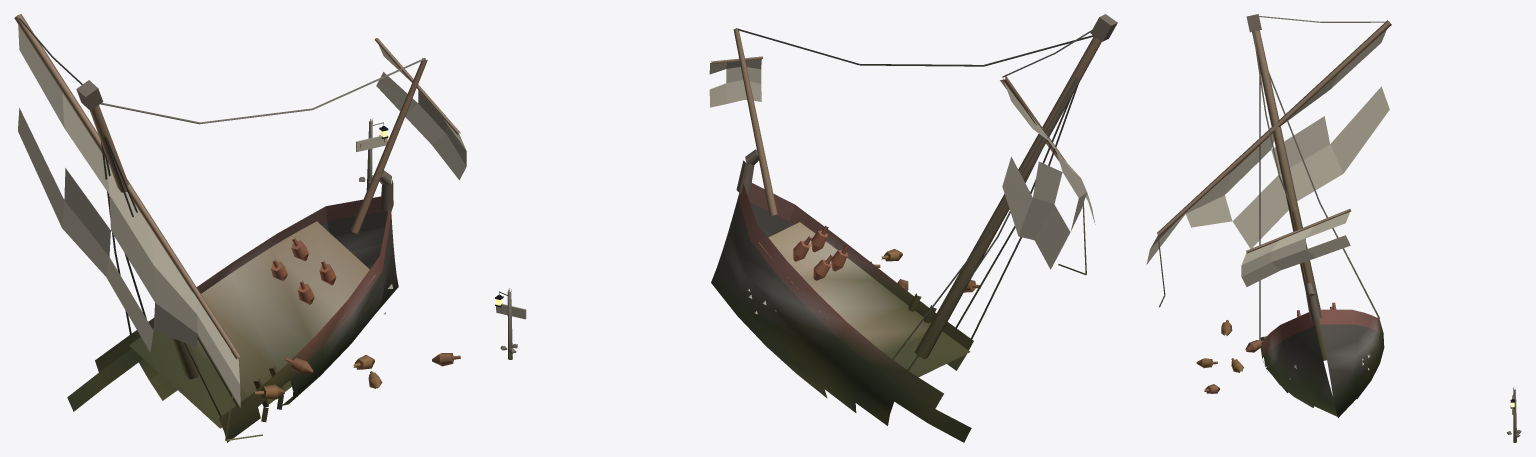
Rendered from wreck_merchant_sunk.glb.
The picture shows the model from 3 angles, left to right: view 1: azimuth 30°, elevation 25°; view 2: azimuth 150°, elevation 25°; view 3: azimuth 270°, elevation 25°; orthographic projection. The views are drawn at different scales.
Parts seen in each view (by area): view 1: hull, rag, epitaph; view 2: hull, rag, epitaph; view 3: hull, rag.
Part boxes in pixels (left/top/right/bottom): hull: left=14, top=14, right=460, bottom=442; rag: left=18, top=25, right=466, bottom=407; epitaph: left=356, top=118, right=388, bottom=191; hull: left=711, top=14, right=1117, bottom=442; rag: left=709, top=59, right=1095, bottom=269; epitaph: left=495, top=288, right=526, bottom=359; hull: left=1157, top=14, right=1391, bottom=417; rag: left=1146, top=29, right=1389, bottom=286.
Size of the model in its own units: 17.02 by 14.25 by 15.24.
